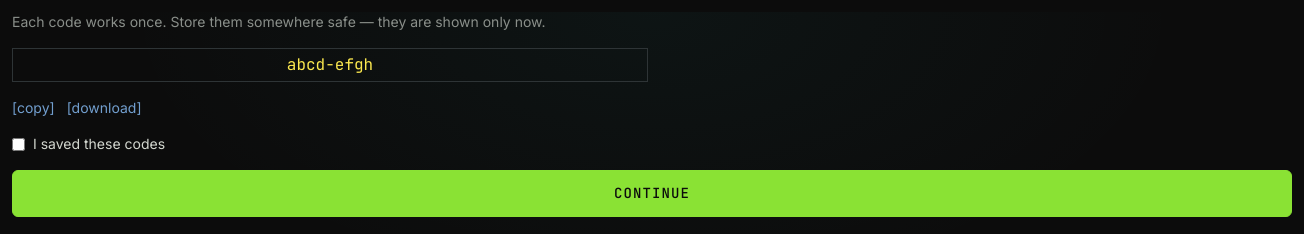
Test: confirms a successful copy
Click the button "[copy]": (33, 108) left=12, top=98, right=55, bottom=118
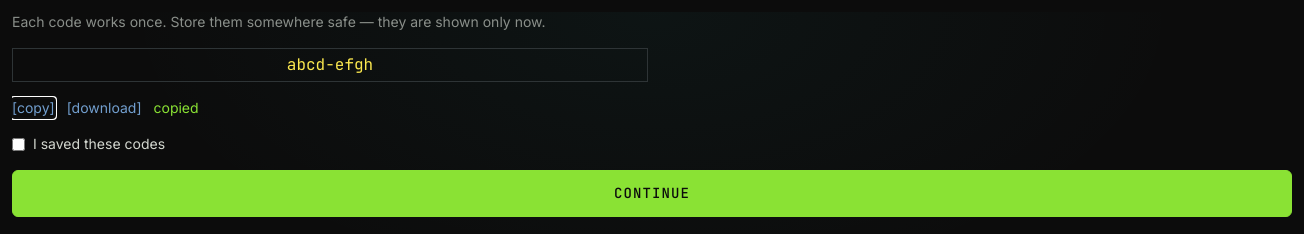
expect the message reads "copied": met, box left=154, top=99, right=199, bottom=116
